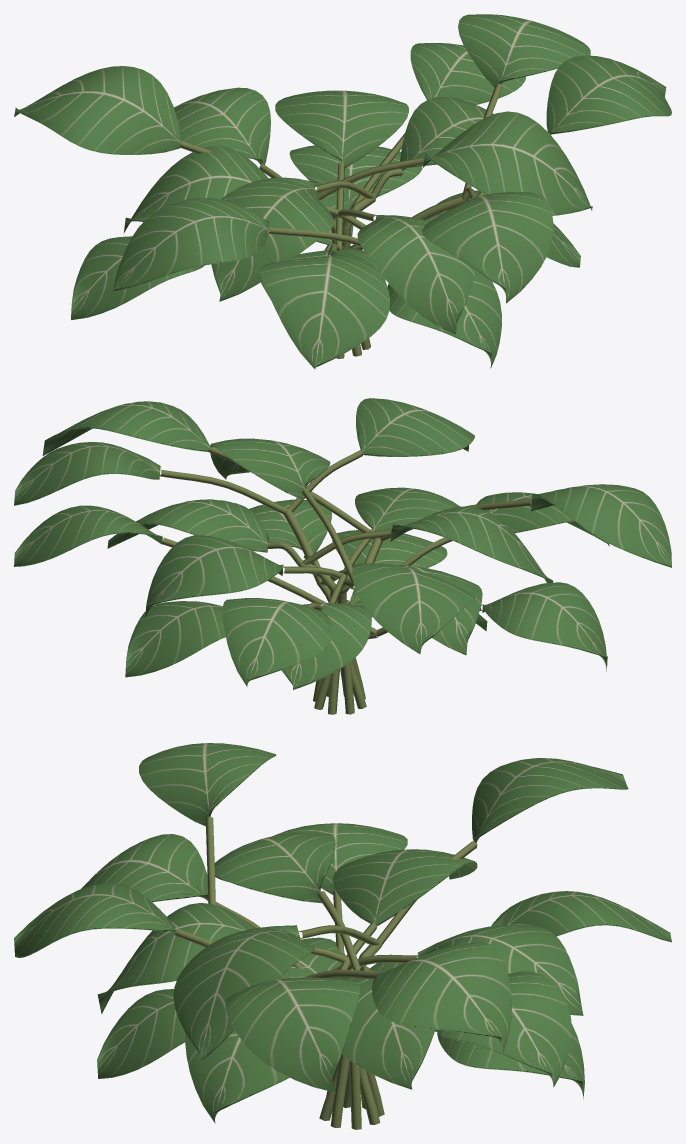
The model's file is fittonia-stage-3.glb.
3 views of the same model, one above another, from view 1: azimuth 30°, elevation 25°; view 2: azimuth 150°, elevation 25°; view 3: azimuth 270°, elevation 25° (orthographic). The views are drawn at different scales.
Parts seen in each view (by area): view 1: Leaf_14, Leaf_10, Leaf_11, Leaf_19, Leaf_17, Leaf_9, Leaf_16, Leaf_5, Leaf_15, Leaf_18, PlantBranches, Leaf_8 (+7 smaller); view 2: PlantBranches, Leaf_8, Leaf_10, Leaf_17, Leaf_15, Leaf_12, Leaf_6, Leaf_19, Leaf_18, Leaf_16, Leaf_11, Leaf_5 (+8 smaller); view 3: Leaf_16, Leaf_18, Leaf_11, PlantBranches, Leaf_17, Leaf_3, Leaf_13, Leaf_5, Leaf_10, Leaf_19, Leaf_9, Leaf_14 (+8 smaller).
Part boxes in pixels (<box>): Leaf_14: <box>260,249,390,368</box>; Leaf_10: <box>14,66,181,154</box>; Leaf_11: <box>423,111,592,215</box>; Leaf_19: <box>422,192,553,303</box>; Leaf_17: <box>113,197,268,290</box>; Leaf_9: <box>357,215,475,335</box>; Leaf_16: <box>546,55,671,134</box>; Leaf_5: <box>211,177,333,301</box>; Leaf_15: <box>275,90,408,167</box>; Leaf_18: <box>458,14,590,87</box>; PlantBranches: <box>180,83,551,358</box>; Leaf_8: <box>174,87,270,165</box>; PlantBranches: <box>160,447,530,714</box>; Leaf_8: <box>222,598,332,686</box>; Leaf_10: <box>352,563,474,654</box>; Leaf_17: <box>531,484,671,567</box>; Leaf_15: <box>145,535,283,618</box>; Leaf_12: <box>482,582,607,671</box>; Leaf_6: <box>125,601,225,677</box>; Leaf_19: <box>356,398,474,456</box>; Leaf_18: <box>14,442,160,505</box>; Leaf_16: <box>42,401,209,455</box>; Leaf_11: <box>210,438,330,500</box>; Leaf_5: <box>390,506,553,582</box>; Leaf_16: <box>225,977,360,1092</box>; Leaf_18: <box>372,941,511,1052</box>; Leaf_11: <box>173,925,315,1060</box>; PlantBranches: <box>175,816,477,1129</box>; Leaf_17: <box>139,743,276,826</box>; Leaf_3: <box>332,849,477,925</box>; Leaf_13: <box>436,971,571,1087</box>; Leaf_5: <box>214,832,335,903</box>; Leaf_10: <box>472,758,628,848</box>; Leaf_19: <box>14,883,176,957</box>; Leaf_9: <box>97,903,254,1013</box>; Leaf_14: <box>81,834,208,902</box>.
Bounding box in the file's own units: 1.68 × 0.6545 × 1.41.
Materials: 2 (1 with a texture image).
